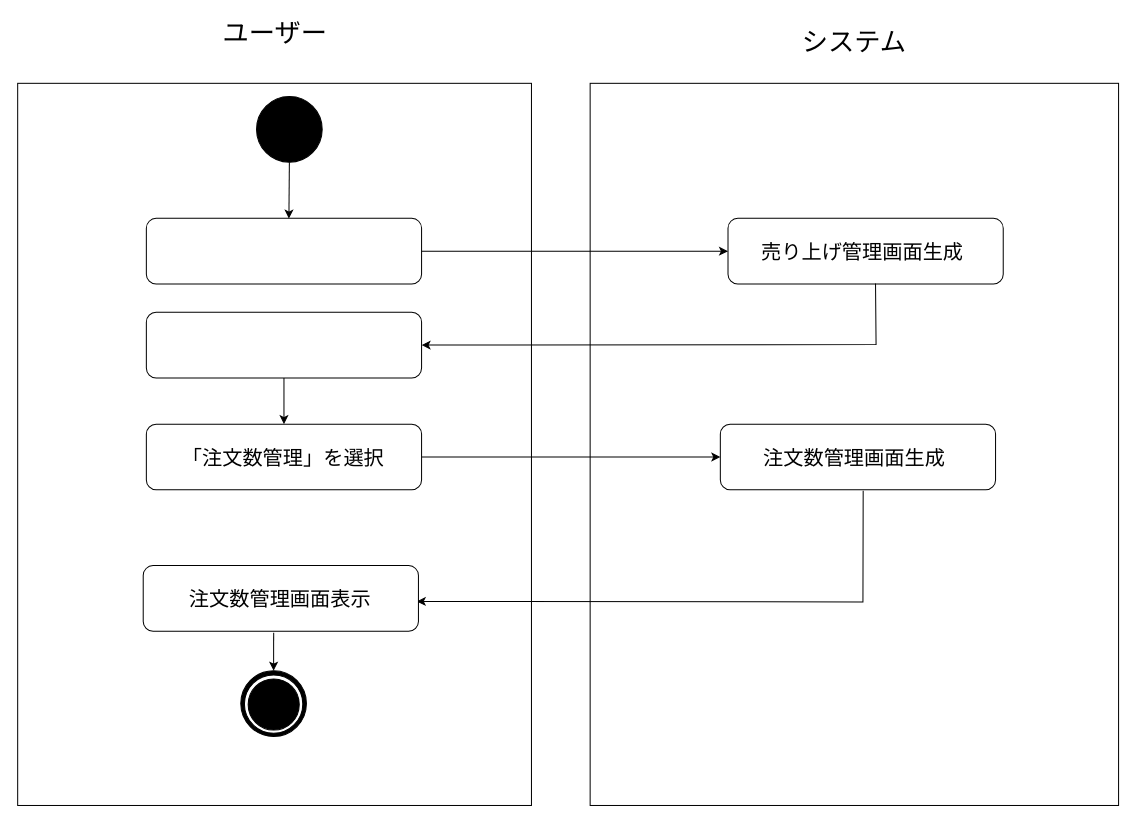
Image size: 1136x823. Some labels were removed from this diagram. Each missing label, with the centre of its shape:
「売り上げ管理」を選択: (x=283, y=250)
売り上げ 管理画面表示: (x=283, y=344)
